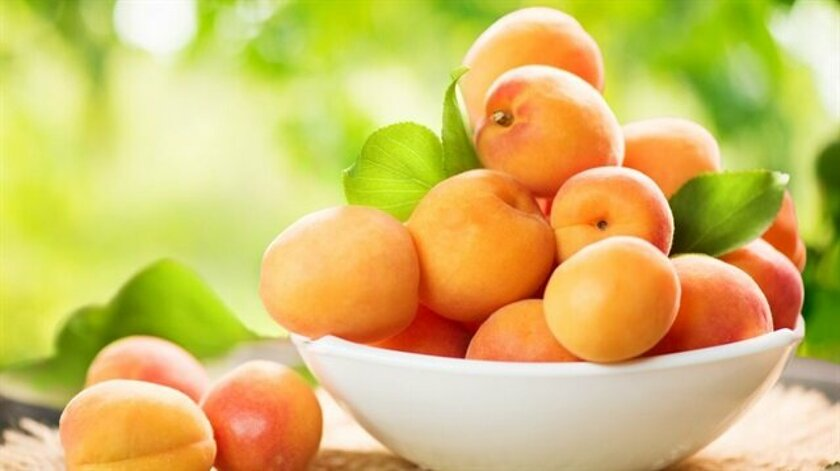Apricot: (252, 204, 419, 345), (470, 64, 630, 181)
